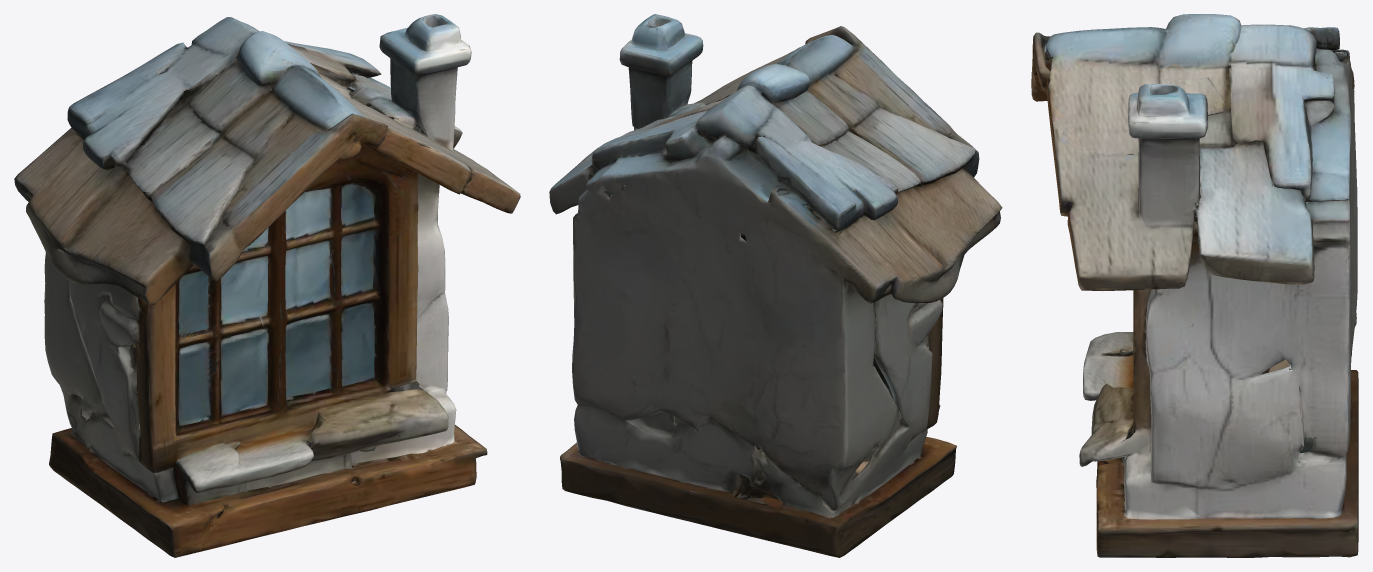
The model's file is girls-window.glb.
The picture shows the model from 3 angles, left to right: view 1: azimuth 30°, elevation 25°; view 2: azimuth 150°, elevation 25°; view 3: azimuth 270°, elevation 25°; orthographic projection. The views are drawn at different scales.
Parts seen in each view (by area): view 1: geometry_0; view 2: geometry_0; view 3: geometry_0.
Boxes of the visible parts, x1,y1,x2,y2 form: geometry_0: [14, 14, 520, 557]; geometry_0: [549, 14, 1002, 557]; geometry_0: [1031, 14, 1358, 557].
Bounding box in the file's own units: 1.38 × 1.5 × 0.9583.
Materials: 1 (1 with a texture image).
